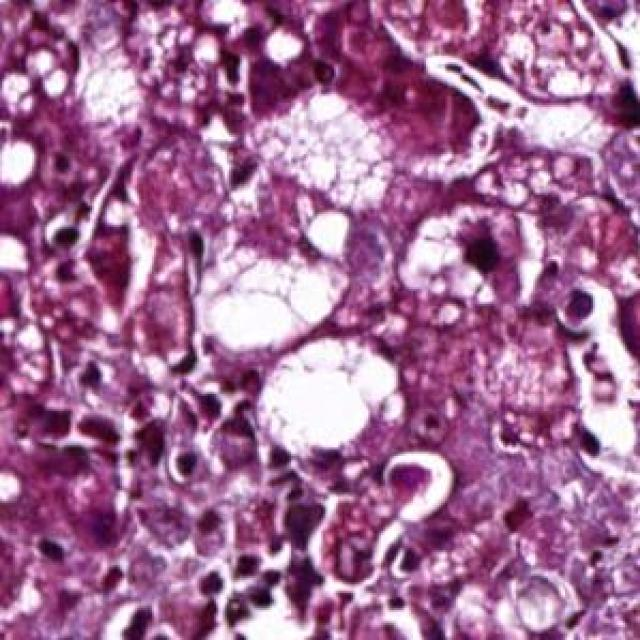ballooning: (188, 169, 358, 364), (246, 332, 413, 466)
